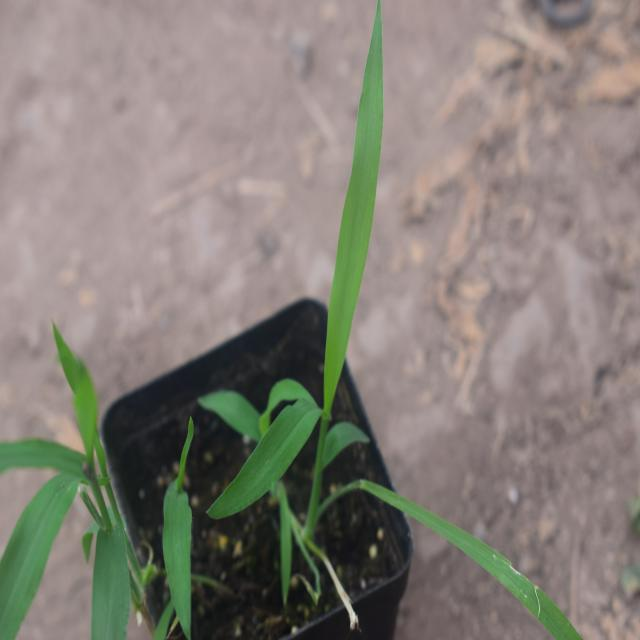crabgrass: (191, 8, 385, 550), (0, 316, 212, 610)
